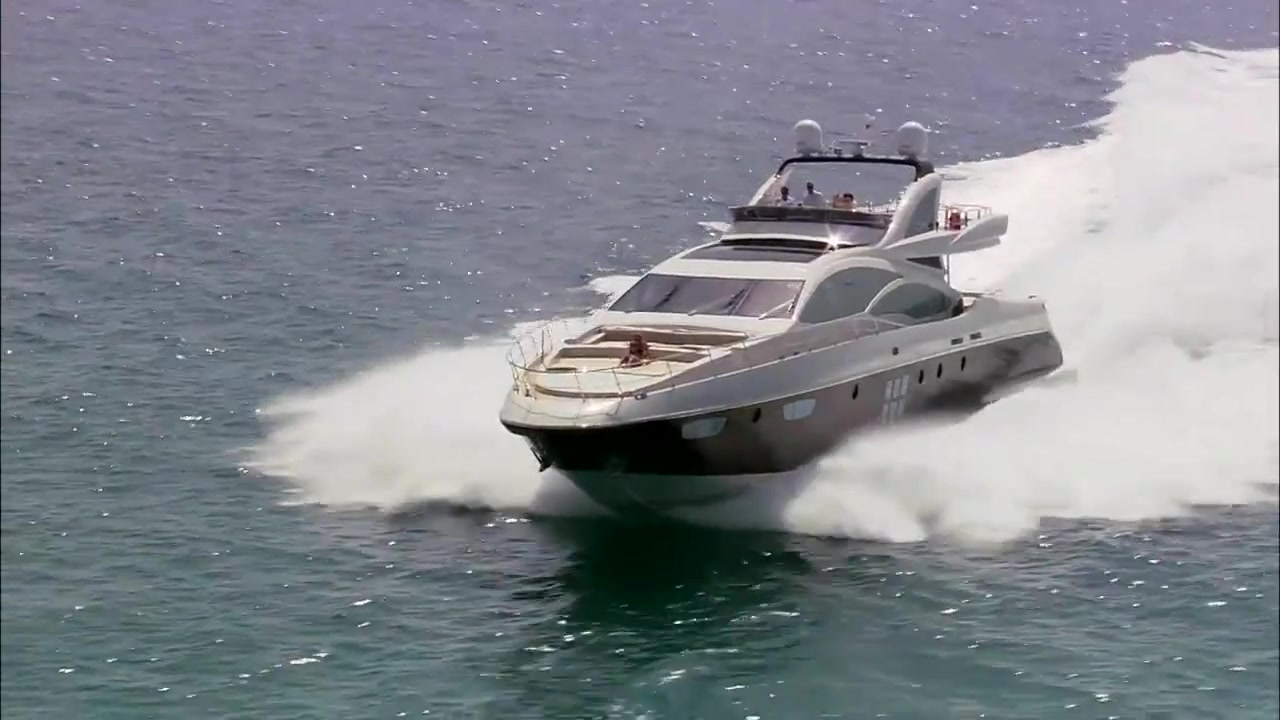boat: (498, 119, 1067, 515)
